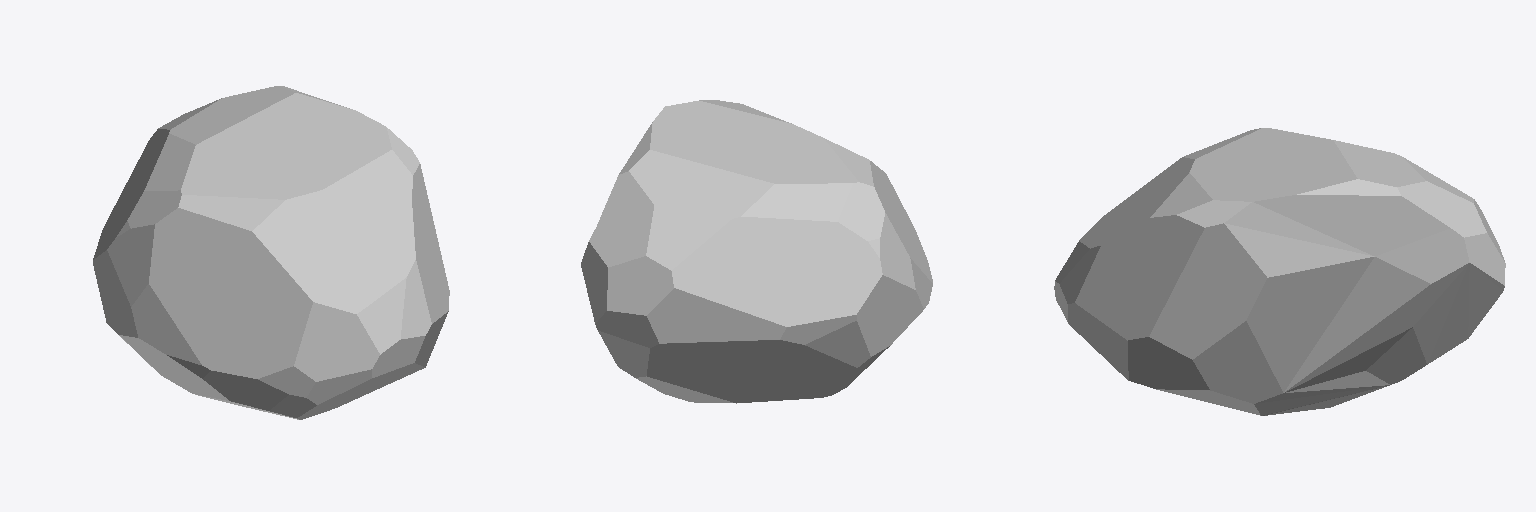
The model's file is widRock0.obj.
3 views of the same model, side by side, from view 1: azimuth 30°, elevation 25°; view 2: azimuth 150°, elevation 25°; view 3: azimuth 270°, elevation 25° (orthographic).
Visible parts, largest first — view 1: Icosphere_002; view 2: Icosphere_002; view 3: Icosphere_002.
Part boxes in pixels (x1,y1,x2,y2): Icosphere_002: (93, 86, 449, 419); Icosphere_002: (581, 100, 932, 403); Icosphere_002: (1054, 128, 1505, 415).
Bounding box in the file's own units: 94.37 × 76.16 × 135.